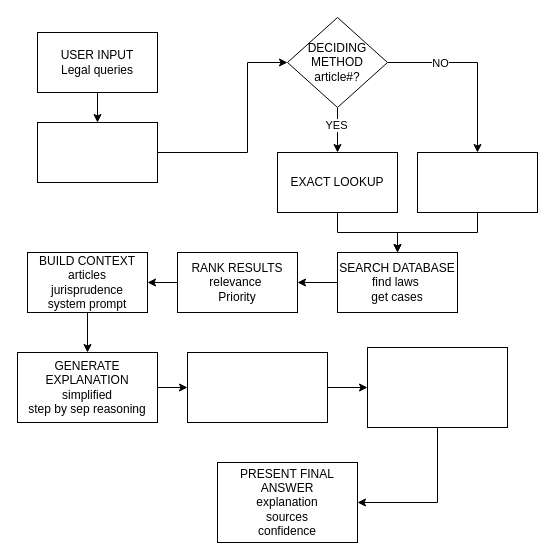
Some shapes in this 555 by 560 pixel diagram are drawn without their labels. The centre of each missing label's shape, as x and y in pixels:
"ADD CITATIONS article number laws reference Urls" belongs at [257,387].
"NLI CHECKS entailment sources confidence flag risk" belongs at [437,387].
"PROCESS INPUT analyze Language Intent" belongs at [97,152].
"SEMANTIC SEARCH" belongs at [477,182].
